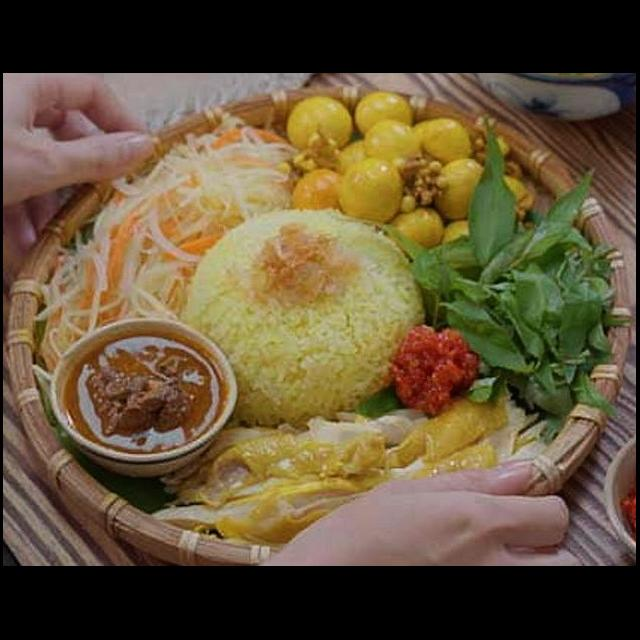com: (178, 205, 430, 438)
com ga: (39, 109, 636, 566)
rau ram: (370, 108, 636, 450)
thit ga: (145, 377, 552, 550)
trung: (337, 156, 408, 230), (284, 92, 358, 158), (432, 154, 488, 226), (408, 111, 474, 172), (359, 118, 424, 176), (382, 202, 448, 258), (348, 88, 414, 140), (286, 166, 346, 218), (436, 216, 484, 268)
